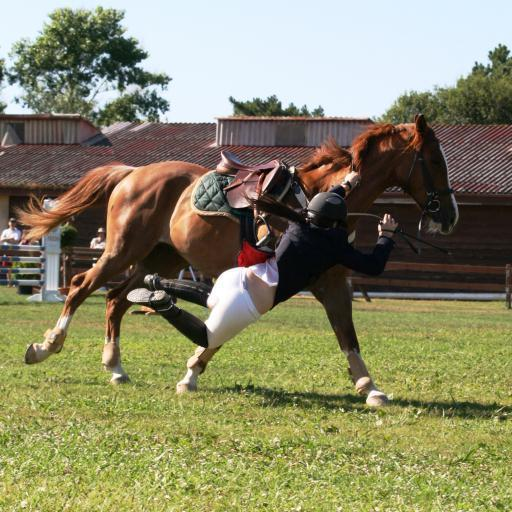horse: (13, 115, 460, 408)
